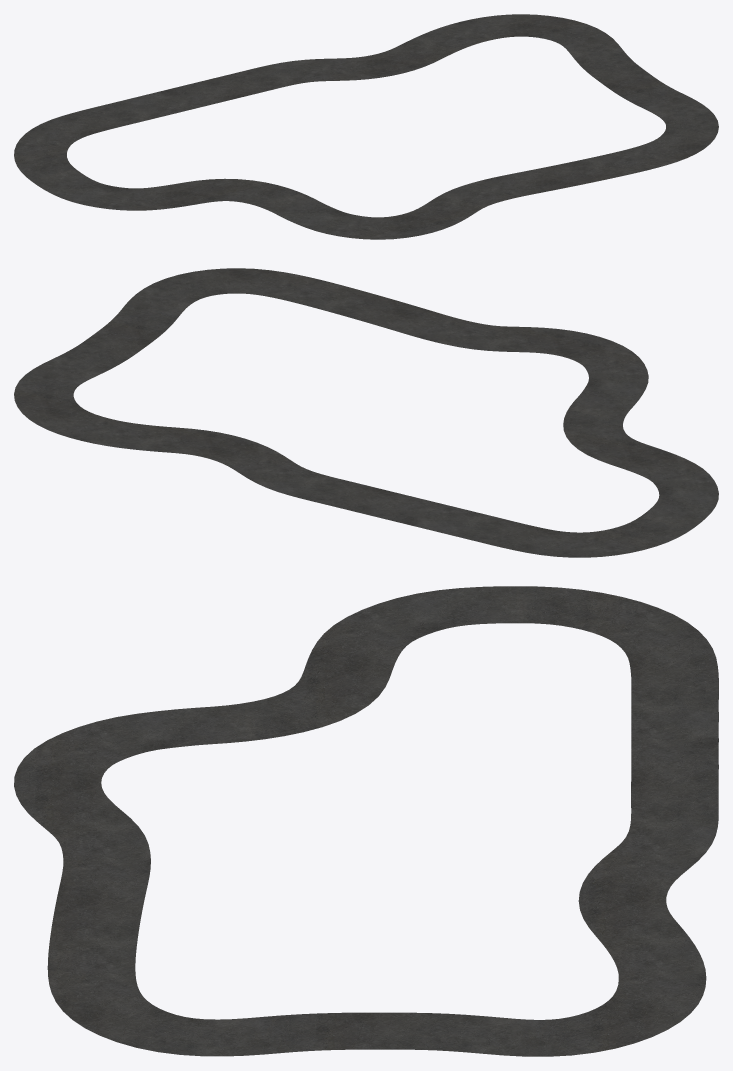
File: New_York_Track_Road.dae
3 renders of one model, top to bottom at view 1: azimuth 30°, elevation 25°; view 2: azimuth 150°, elevation 25°; view 3: azimuth 270°, elevation 25°, orthographic. The views are drawn at different scales.
Visible parts, largest first — view 1: road; view 2: road; view 3: road.
Boxes of the visible parts, x1,y1,x2,y2 form: road: (14, 14, 718, 239); road: (14, 268, 718, 557); road: (14, 586, 718, 1056).
Bounding box in the file's own units: 8.39 × 5.31 × 0.
Materials: 1 (1 with a texture image).
